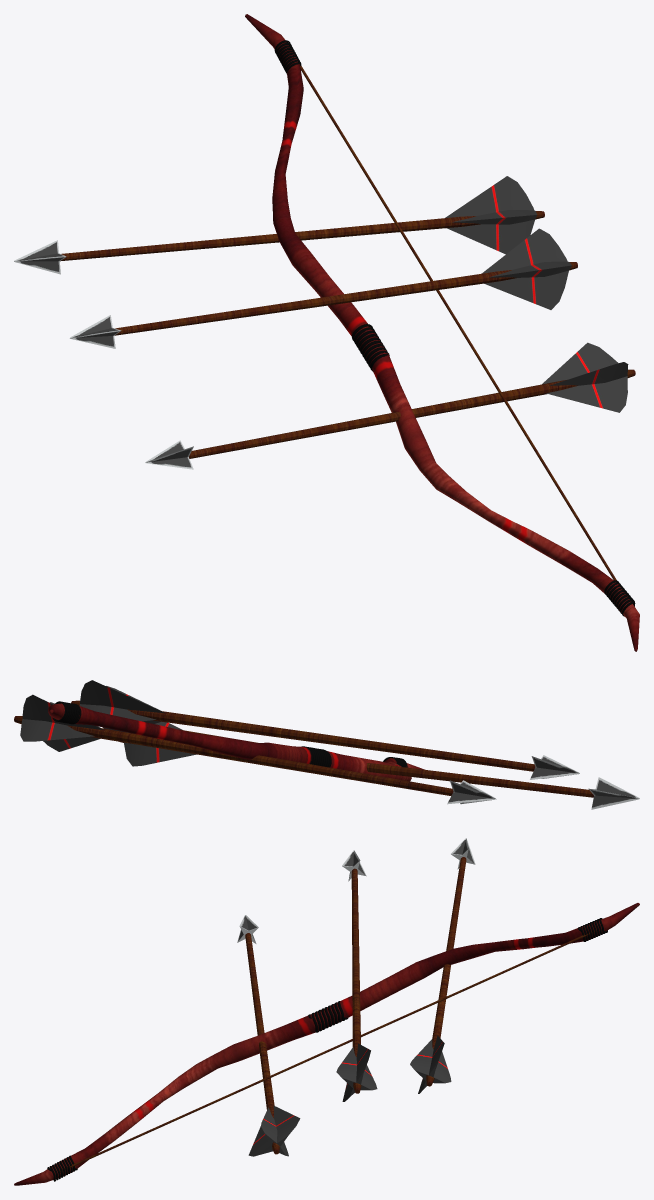
The picture shows the model from 3 angles, top to bottom: view 1: azimuth 30°, elevation 25°; view 2: azimuth 150°, elevation 25°; view 3: azimuth 270°, elevation 25°; orthographic projection. The views are drawn at different scales.
Visible parts, largest first — view 1: rope, fletching, fletching_fletching1_0.001, fletching_fletching1_0.002; view 2: fletching, fletching_fletching1_0.001, rope, fletching_fletching1_0.002; view 3: rope, fletching_fletching1_0.002, fletching, fletching_fletching1_0.001.
Part boxes in pixels (box(x1,y1,x2,y2)): rope: box(245, 14, 639, 651); fletching: box(70, 228, 577, 348); fletching_fletching1_0.001: box(14, 176, 544, 274); fletching_fletching1_0.002: box(145, 342, 635, 469); fletching: box(71, 680, 579, 779); fletching_fletching1_0.001: box(14, 694, 496, 804); rope: box(48, 701, 424, 781); fletching_fletching1_0.002: box(119, 722, 639, 809); rope: box(14, 903, 639, 1185); fletching_fletching1_0.002: box(237, 915, 300, 1156); fletching: box(336, 850, 377, 1101); fletching_fletching1_0.001: box(410, 838, 475, 1093).
Size of the model in its own units: 5657 by 3662 by 7348.
